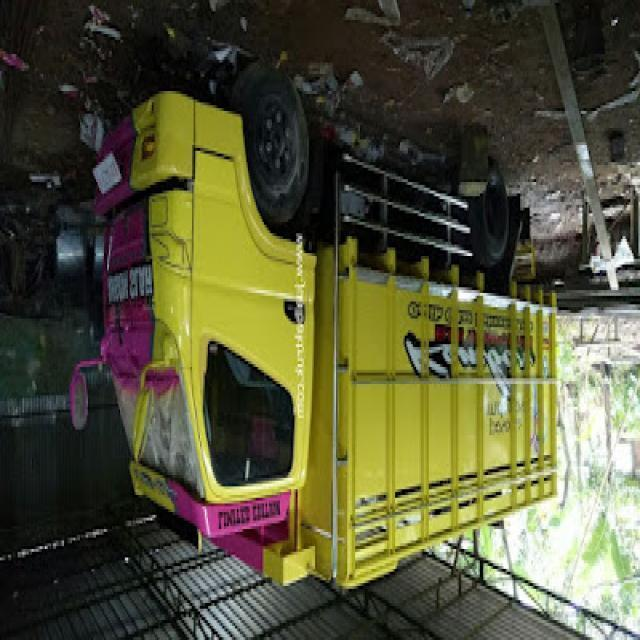truck: (69, 77, 557, 606)
